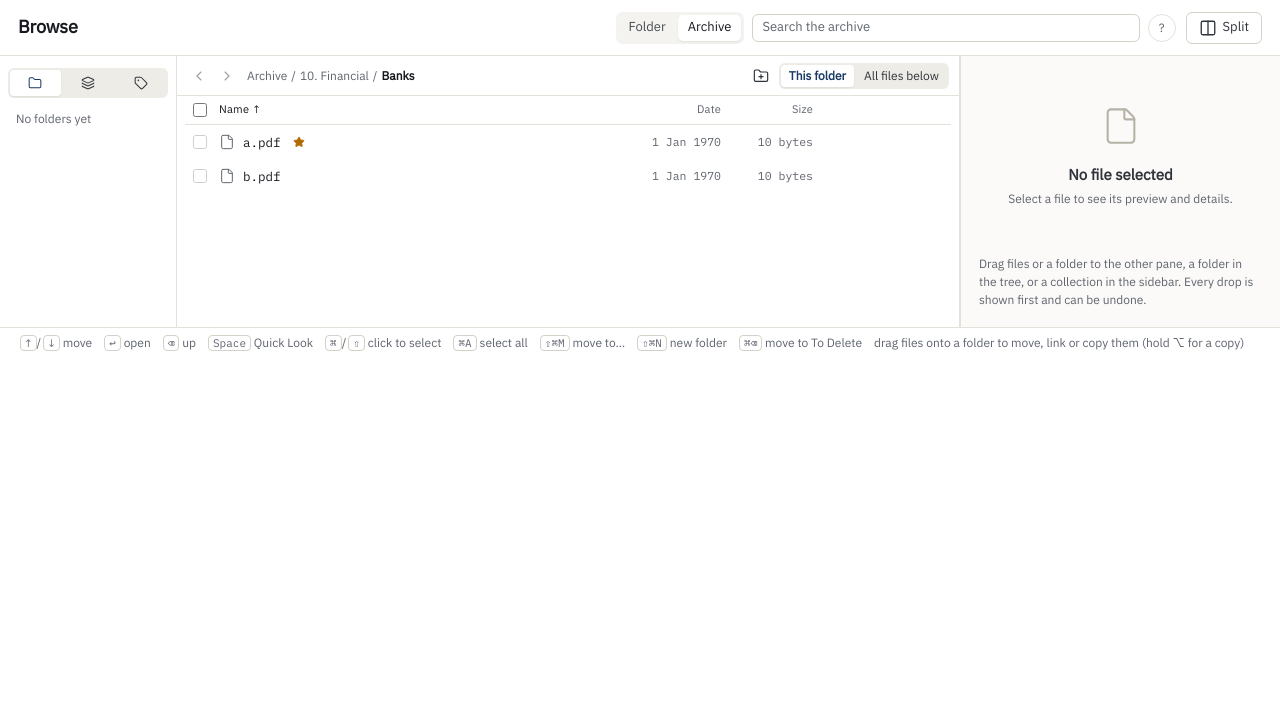
Test case: Star and Important for the checked files › Star marks the checked files in one request when not all are starred
Expected: the text "a.pdf" is shown, x1=243 y1=133 x2=280 y2=151
Click the checkbox named "Select all files": (200, 110) x1=193 y1=103 x2=207 y2=117
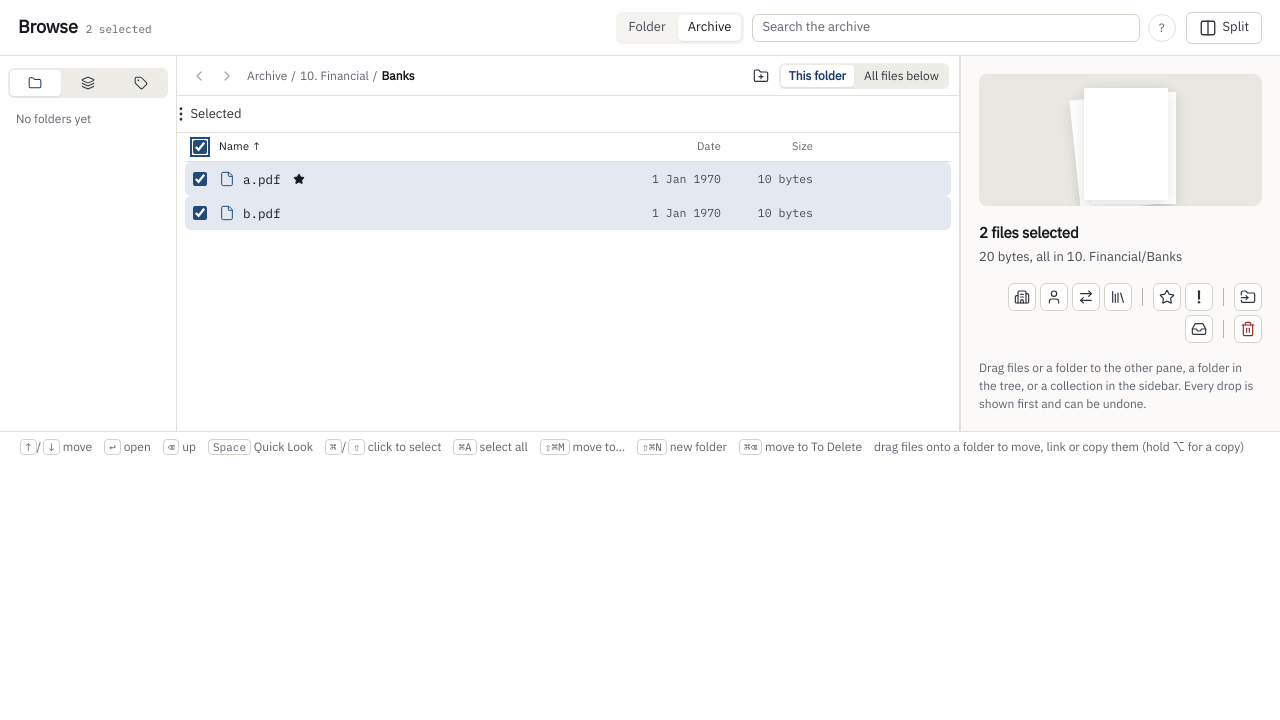
Click the button named "Star": (1167, 297) x1=1153 y1=283 x2=1181 y2=311
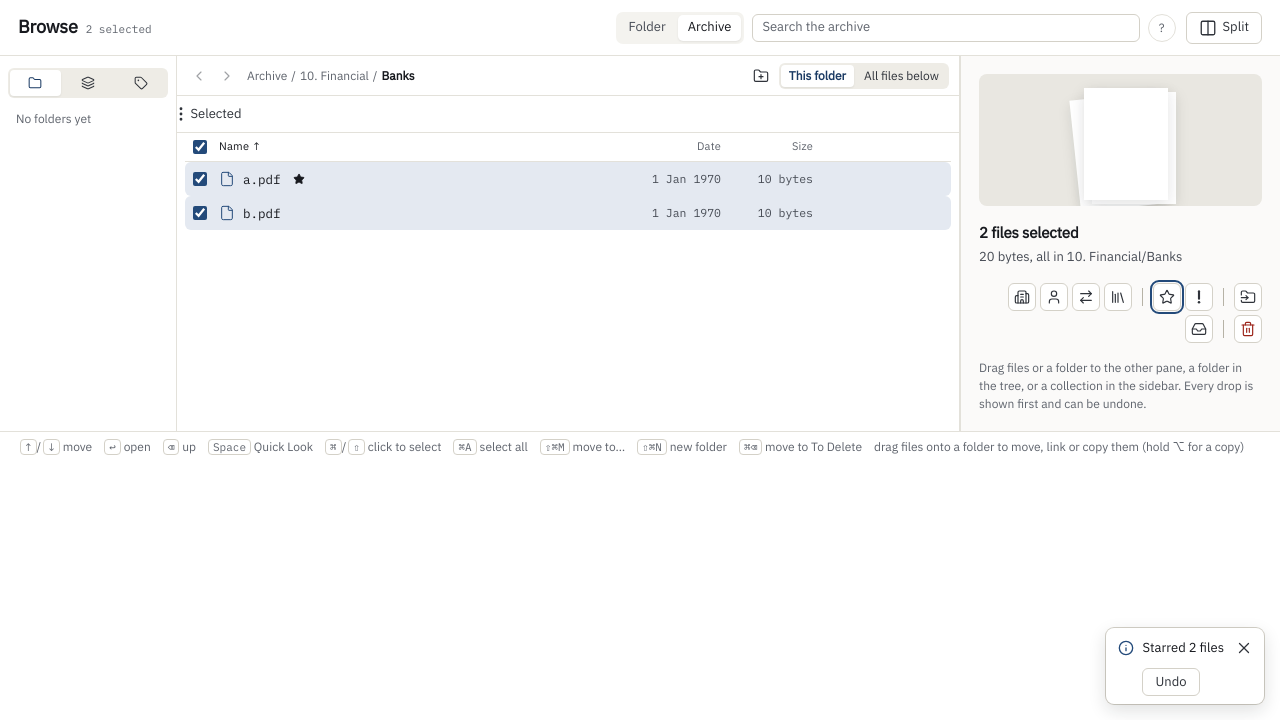
Now the text "Starred 2 files" is shown, box x1=1142 y1=639 x2=1224 y2=657
